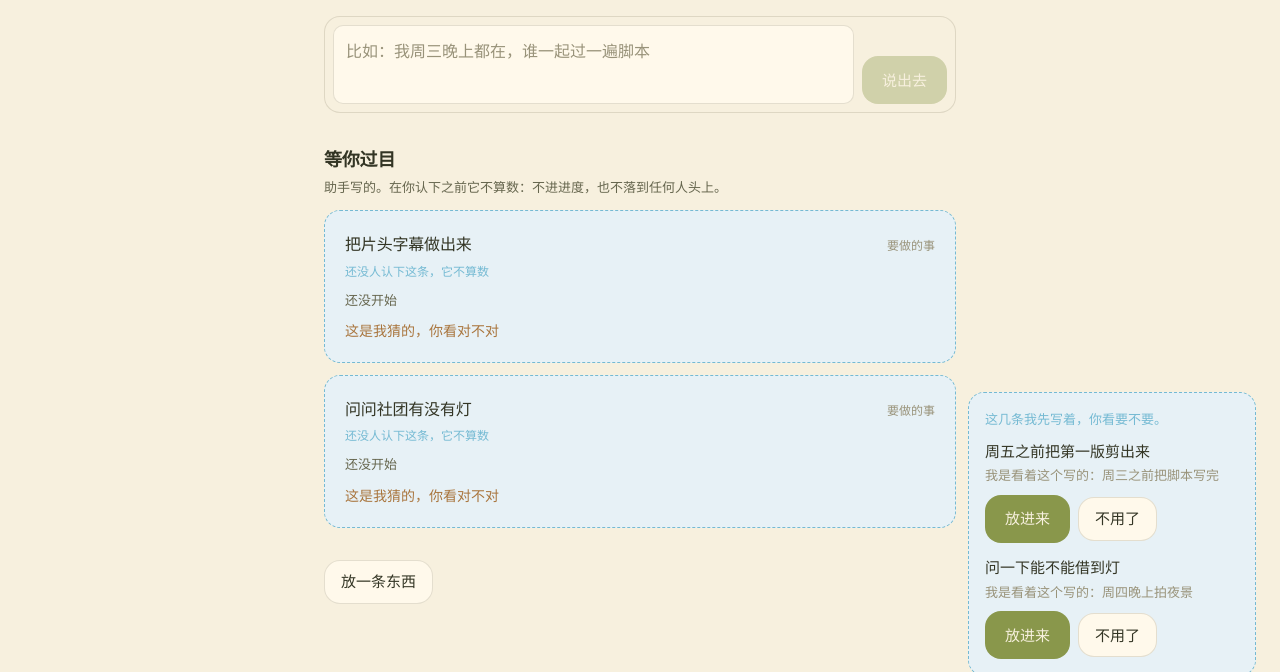
Test: 放一条东西 › 选项来自后端的清单，不是前端写死的一张表
(page scrolled)
Click the button "放一条东西". click: [378, 582]
box: [324,560,433,604]
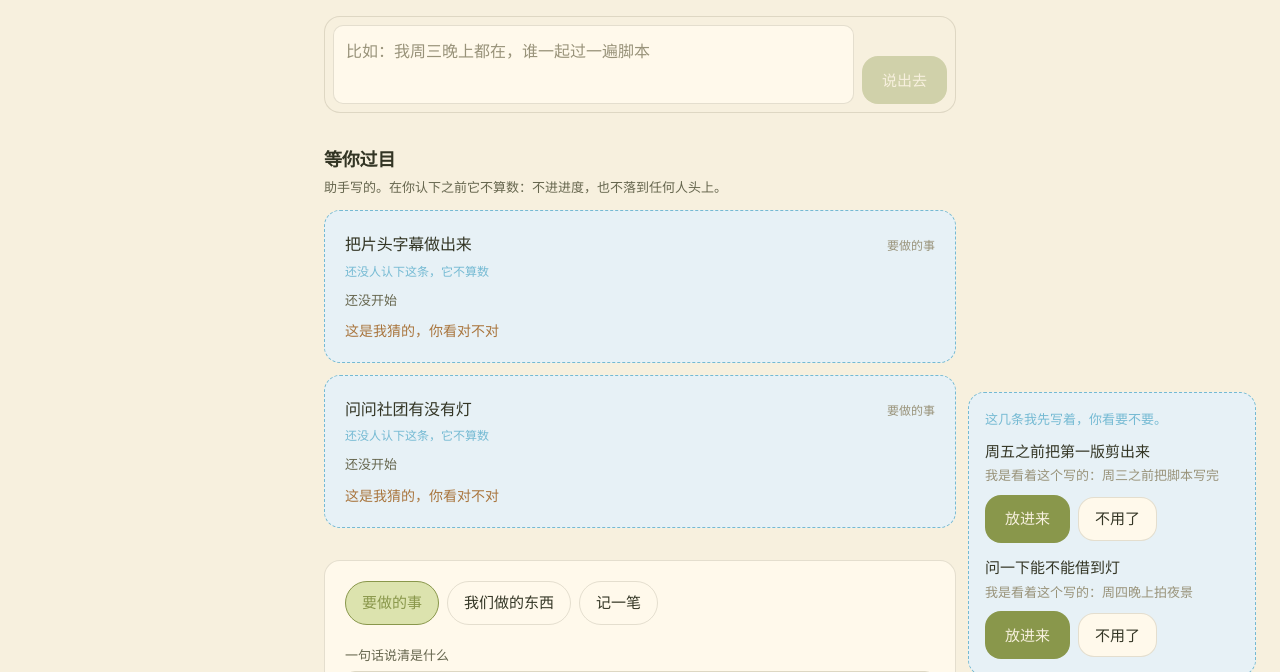
Expected: the radio button labelled "要做的事" is shown, [345,581,439,625]
Expected: the radio button labelled "我们做的东西" is shown, [447,581,571,625]
Expected: the radio button labelled "记一笔" is shown, [579,581,658,625]
